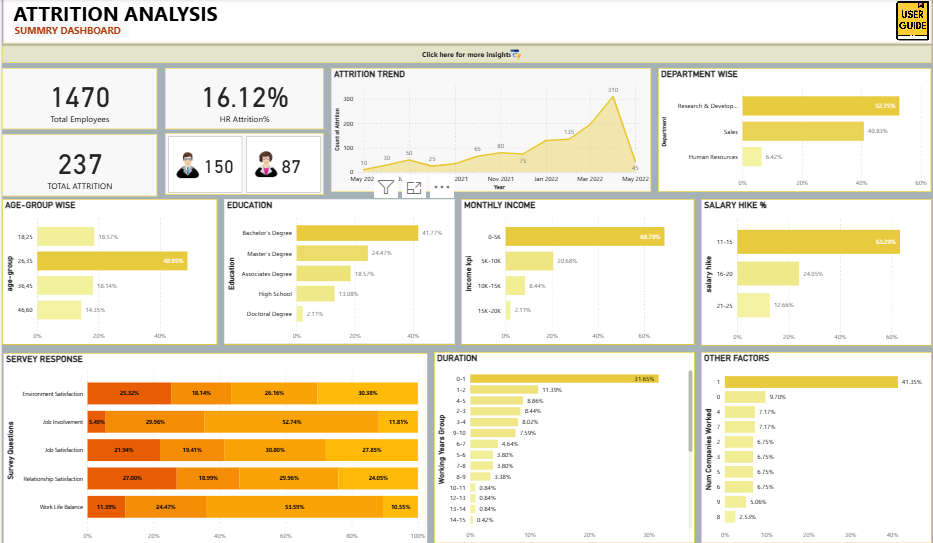

The page's visual inventory and layout, read from the dashboard file:
{"tool":"powerbi","page":{"name":"HR Attrition","canvas":[1793,1049],"ordinal":0},"visuals":[{"type":"shape","box":[1.8,0,1790.5,86.1],"z":0},{"type":"textbox","box":[19.5,43,225.3,31.3],"z":1000},{"type":"card","fields":{"Values":["HR_Attrition.Total Employees"]},"box":[0,133.8,298.5,118.3],"z":2000},{"type":"cardVisual","fields":{"Data":["HR_Attrition.TOTAL MALE","HR_Attrition.TOTAL FEMALE"]},"box":[314.5,258.3,305.7,119.5],"z":3000},{"type":"card","fields":{"Values":["HR_Attrition.Measure"]},"box":[0,260.5,298.5,119.7],"z":4000},{"type":"card","fields":{"Values":["HR_Attrition.HR Attrition%"]},"box":[314.5,133.5,305.7,117.7],"z":5000},{"type":"shape","box":[0,84.3,1792.3,38.7],"z":6000},{"type":"image","box":[975.2,92.2,30.1,30.1],"z":7000},{"type":"areaChart","title":"ATTRITION TREND","fields":{"Category":["HR_Attrition.Attrition Date.Variation.Date Hierarchy.Year","HR_Attrition.Attrition Date.Variation.Date Hierarchy.Month"],"Y":["CountNonNull(HR_Attrition.Attrition)"]},"box":[634.3,133.5,616.7,239],"z":8000},{"type":"barChart","title":"DEPARTMENT WISE","fields":{"Category":["HR_Attrition.Department"],"Y":["Divide(Sum(HR_Attrition.Employee Number), ScopedEval(Sum(HR_Attrition.Employee Number), []))"]},"box":[1265.1,133.5,527.1,239],"z":9000},{"type":"barChart","title":"AGE-GROUP WISE","fields":{"Category":["HR_Attrition.age-group"],"Y":["Sum(HR_Attrition.Age)"]},"box":[0,385.5,415,280.6],"z":10000},{"type":"clusteredBarChart","title":"EDUCATION","fields":{"Category":["HR_Attrition.Education"],"Y":["CountNonNull(HR_Attrition.Education Field)"]},"box":[428.7,384.8,444.6,281.1],"z":11000},{"type":"clusteredBarChart","title":"MONTHLY INCOME","fields":{"Y":["Sum(HR_Attrition.Monthly Income)"],"Category":["HR_Attrition.income kpi"]},"box":[885.6,384.8,449.8,281.1],"z":12000},{"type":"barChart","title":"SALARY HIKE %","fields":{"Y":["Sum(HR_Attrition.Percent Salary Hike)"],"Category":["HR_Attrition.salary hike"]},"box":[1347.7,384.8,444.6,282.9],"z":13000},{"type":"hundredPercentStackedBarChart","title":"SERVEY RESPONSE","fields":{"Category":["HR_Attrition.Survey Questions"],"Y":["Sum(HR_Attrition.Standard Hours)"],"Series":["HR_Attrition.Survey Values"]},"box":[1.8,681.8,818.8,369],"z":14000},{"type":"barChart","title":"DURATION","fields":{"Category":["HR_Attrition.Working Years Group"],"Y":["Sum(HR_Attrition.Employee Number)"]},"box":[832.9,680,502.5,369],"z":15000},{"type":"barChart","title":"OTHER FACTORS","fields":{"Category":["HR_Attrition.Num Companies Worked"],"Y":["Sum(HR_Attrition.Employee Number)"]},"box":[1347.7,680,444.6,369],"z":16000},{"type":"image","box":[1716.9,3.9,74.9,76.2],"z":17000}]}

Visuals, with their boxes in screenshot pixels (x1, y1, x2, y2), scaled from the page's 1793x1049 canvas onto the 933x543 screenshot:
shape: select_region(1, 0, 932, 45)
textbox: select_region(10, 22, 127, 38)
card - HR_Attrition.Total Employees: select_region(0, 69, 155, 130)
cardVisual - HR_Attrition.TOTAL MALE x HR_Attrition.TOTAL FEMALE: select_region(164, 134, 323, 196)
card - HR_Attrition.Measure: select_region(0, 135, 155, 197)
card - HR_Attrition.HR Attrition%: select_region(164, 69, 323, 130)
shape: select_region(0, 44, 932, 64)
image: select_region(507, 48, 523, 63)
"ATTRITION TREND" areaChart: select_region(330, 69, 651, 193)
"DEPARTMENT WISE" barChart: select_region(658, 69, 932, 193)
"AGE-GROUP WISE" barChart: select_region(0, 200, 216, 345)
"EDUCATION" clusteredBarChart: select_region(223, 199, 454, 345)
"MONTHLY INCOME" clusteredBarChart: select_region(461, 199, 695, 345)
"SALARY HIKE %" barChart: select_region(701, 199, 932, 346)
"SERVEY RESPONSE" hundredPercentStackedBarChart: select_region(1, 353, 427, 542)
"DURATION" barChart: select_region(433, 352, 695, 542)
"OTHER FACTORS" barChart: select_region(701, 352, 932, 542)
image: select_region(893, 2, 932, 41)
